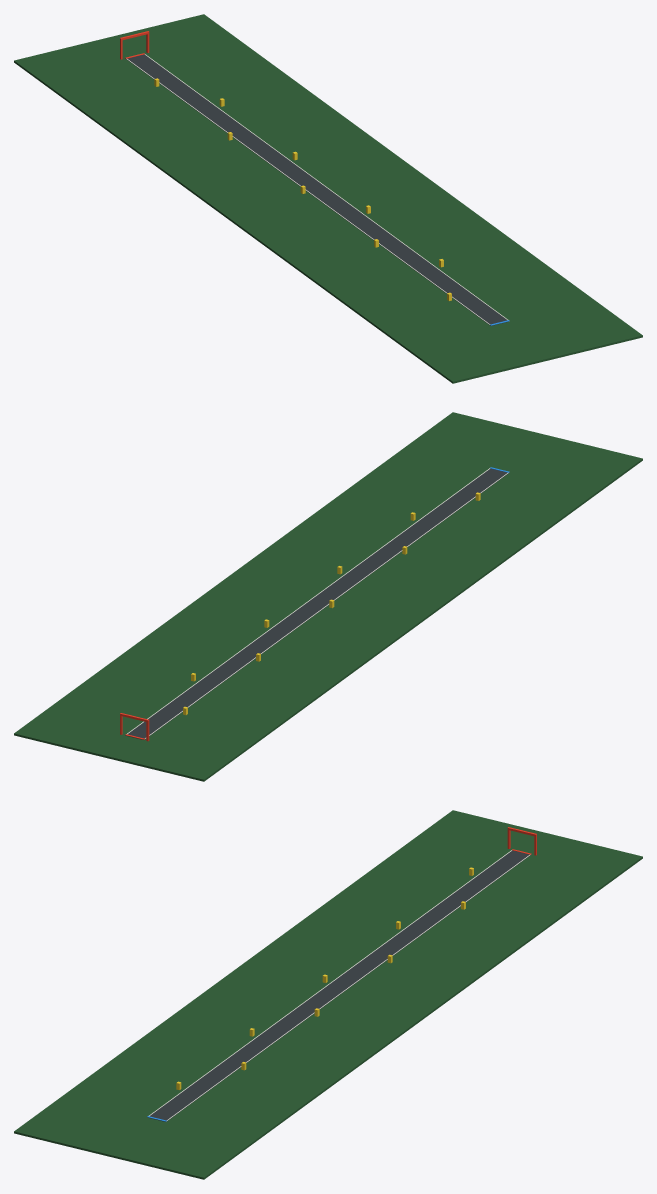
Rendered from arrietty_straight_100m.glb.
3 views of the same model, one above another, from view 1: azimuth 30°, elevation 25°; view 2: azimuth 150°, elevation 25°; view 3: azimuth 330°, elevation 25° (orthographic).
Visible parts, largest first — view 1: Ground, Straight Course 3m x 100m, Right Edge Line, Left Edge Line; view 2: Ground, Straight Course 3m x 100m, Right Edge Line, Left Edge Line; view 3: Ground, Straight Course 3m x 100m, Left Edge Line, Right Edge Line.
Boxes of the visible parts, x1=… form: Ground: x1=14, y1=14, x2=642, y2=383; Straight Course 3m x 100m: x1=125, y1=54, x2=509, y2=325; Right Edge Line: x1=145, y1=54, x2=509, y2=321; Left Edge Line: x1=126, y1=58, x2=489, y2=324; Ground: x1=14, y1=412, x2=642, y2=781; Straight Course 3m x 100m: x1=125, y1=468, x2=509, y2=739; Right Edge Line: x1=126, y1=468, x2=490, y2=734; Left Edge Line: x1=145, y1=472, x2=508, y2=738; Ground: x1=14, y1=810, x2=642, y2=1179; Straight Course 3m x 100m: x1=147, y1=850, x2=531, y2=1121; Left Edge Line: x1=147, y1=850, x2=511, y2=1117; Right Edge Line: x1=166, y1=854, x2=530, y2=1121.
Bounding box in the file's own units: 30 × 3.5 × 120.
